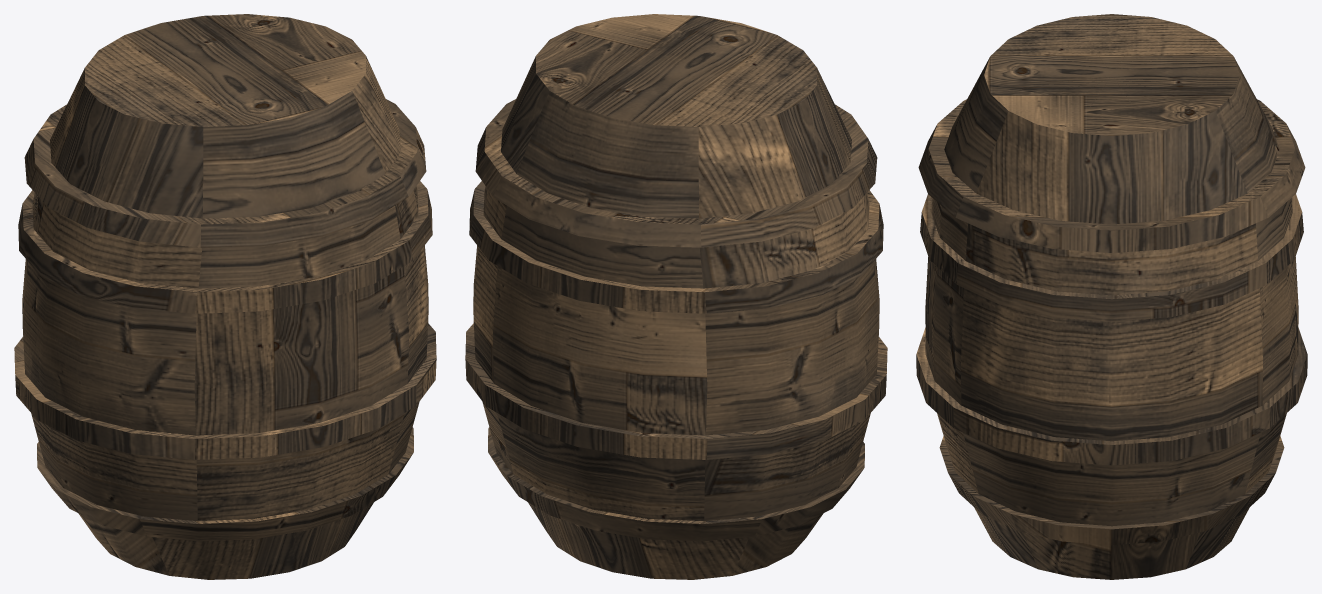
Rendered from Barrel.fbx.
3 renders of one model, left to right at view 1: azimuth 30°, elevation 25°; view 2: azimuth 150°, elevation 25°; view 3: azimuth 270°, elevation 25°, orthographic.
Visible parts, largest first — view 1: Barrel; view 2: Barrel; view 3: Barrel.
Boxes of the visible parts, x1,y1,x2,y2 form: Barrel: (14, 14, 436, 579); Barrel: (465, 14, 887, 579); Barrel: (916, 14, 1307, 579).
Size of the model in its own units: 1.8 by 2.07 by 1.63.
Materials: 1 (1 with a texture image).
